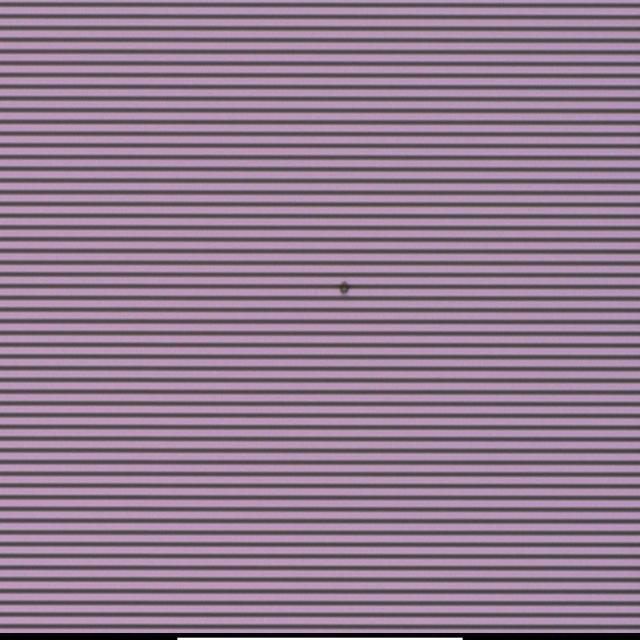03_intrusion: (330, 276, 356, 302)
